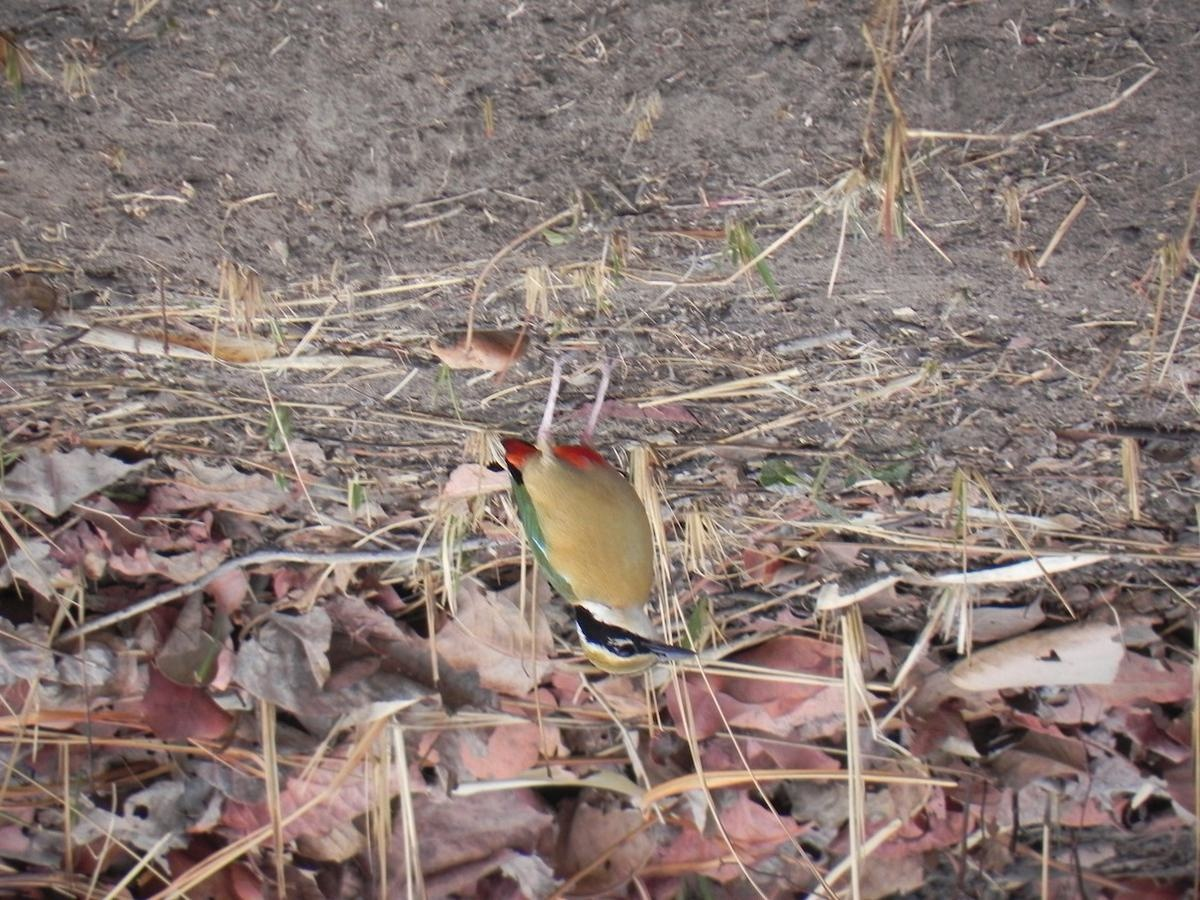pitta: (494, 410, 716, 696)
